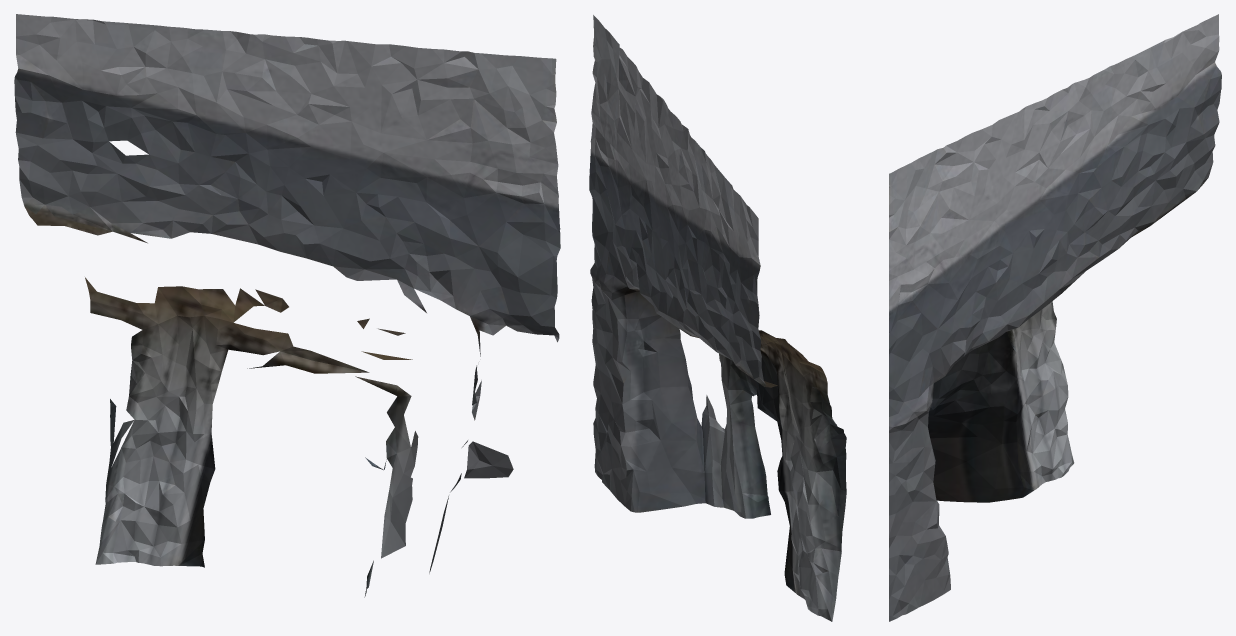
3 views of the same model, side by side, from view 1: azimuth 30°, elevation 25°; view 2: azimuth 150°, elevation 25°; view 3: azimuth 270°, elevation 25° (orthographic). The views are drawn at different scales.
Size of the model in its own units: 0.6463 by 0.8374 by 0.5624.
Materials: 3 (3 with a texture image).
